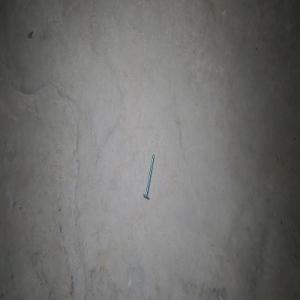Bolt: (142, 153, 154, 199)
